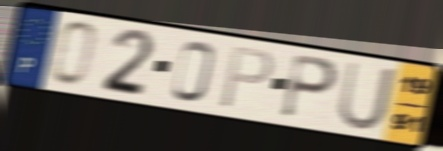0: (48, 18, 103, 89), (171, 40, 218, 104)
2: (102, 27, 158, 100)
P: (278, 52, 341, 122), (217, 44, 277, 111)
U: (335, 58, 399, 133)
